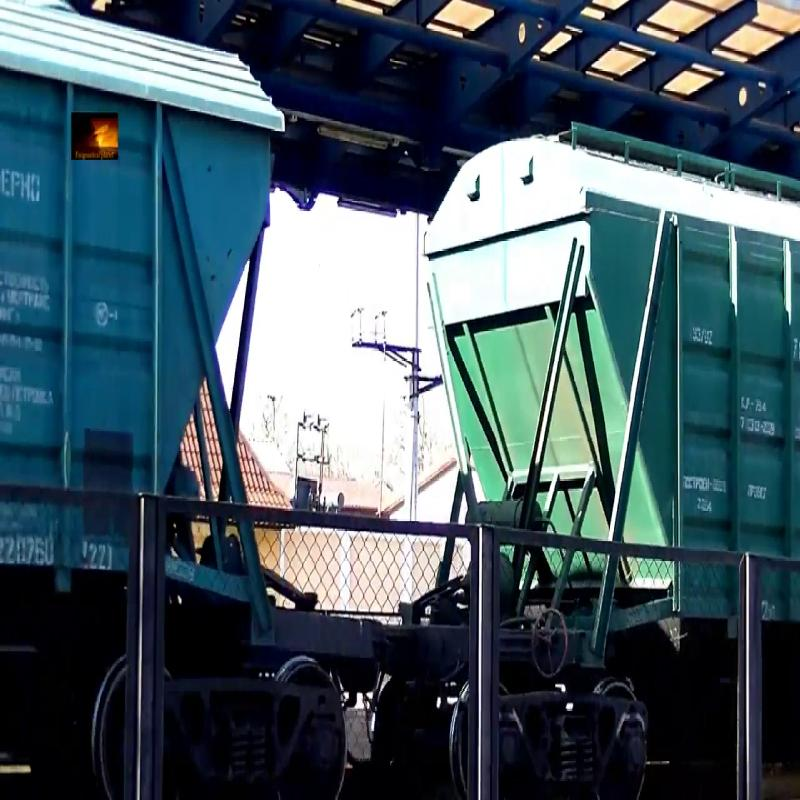train: (415, 6, 800, 725), (1, 2, 299, 742)
